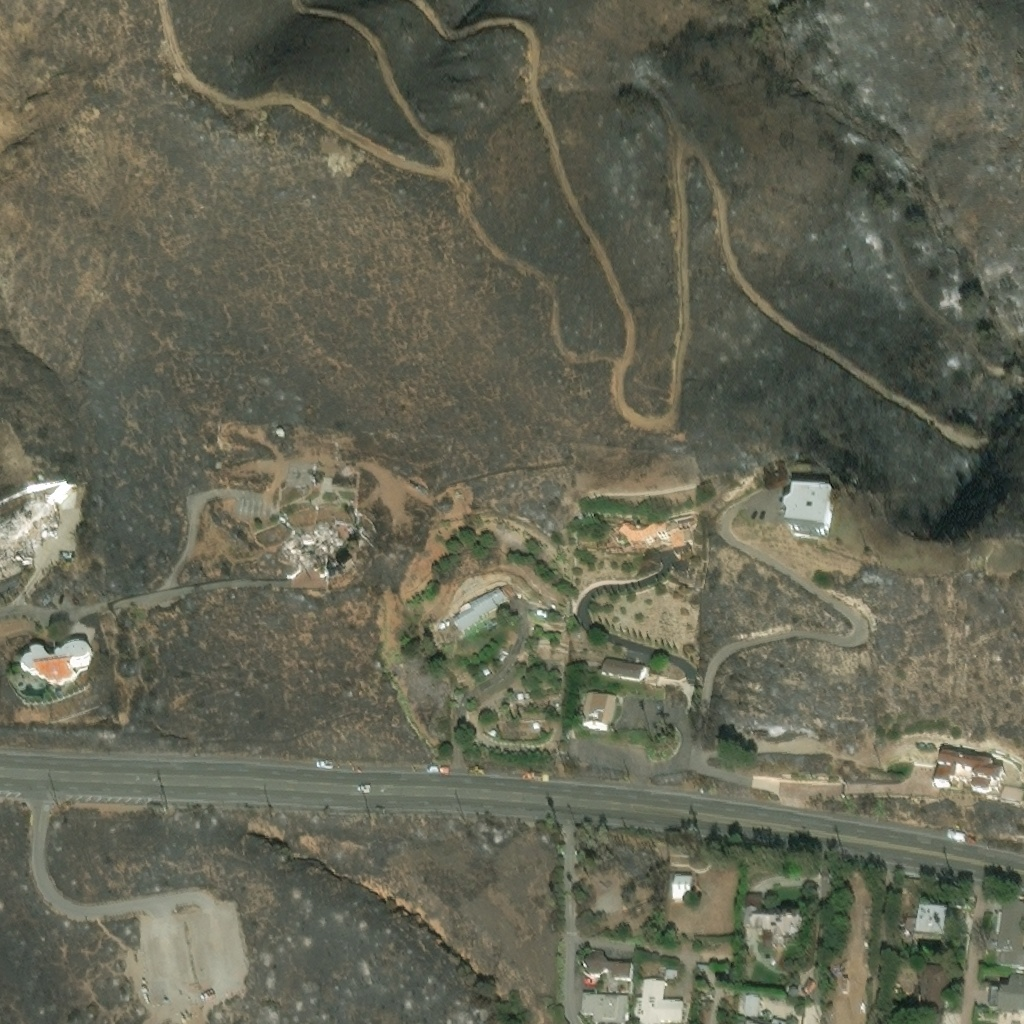0 no-damage: (453, 581, 514, 641), (931, 752, 1003, 795), (22, 647, 94, 690), (782, 487, 835, 540), (636, 981, 686, 1023), (914, 965, 950, 1023), (995, 900, 1023, 971), (744, 893, 784, 936), (597, 658, 648, 686), (581, 693, 617, 732), (773, 914, 810, 951), (583, 955, 633, 982), (582, 997, 631, 1023), (617, 522, 670, 546), (997, 975, 1023, 1023), (917, 907, 954, 939), (669, 526, 692, 550), (672, 875, 693, 901), (915, 936, 944, 952), (744, 997, 763, 1019), (903, 917, 918, 941), (1002, 788, 1023, 805), (577, 537, 604, 550), (989, 987, 1003, 1010), (698, 1003, 714, 1023), (730, 971, 741, 987), (700, 992, 715, 1003), (664, 971, 678, 981), (924, 741, 935, 751), (788, 989, 797, 1001), (482, 667, 491, 677), (498, 652, 507, 662), (800, 982, 810, 990), (915, 741, 925, 749), (490, 732, 498, 740), (535, 608, 542, 616), (533, 725, 541, 731), (517, 695, 525, 701), (501, 649, 509, 655), (782, 909, 789, 914), (525, 695, 530, 701), (542, 611, 547, 616), (555, 704, 559, 708)
3 destroyed: (0, 501, 55, 559), (282, 525, 342, 568), (329, 522, 350, 554), (340, 462, 352, 475), (277, 431, 284, 439), (313, 483, 320, 491)
